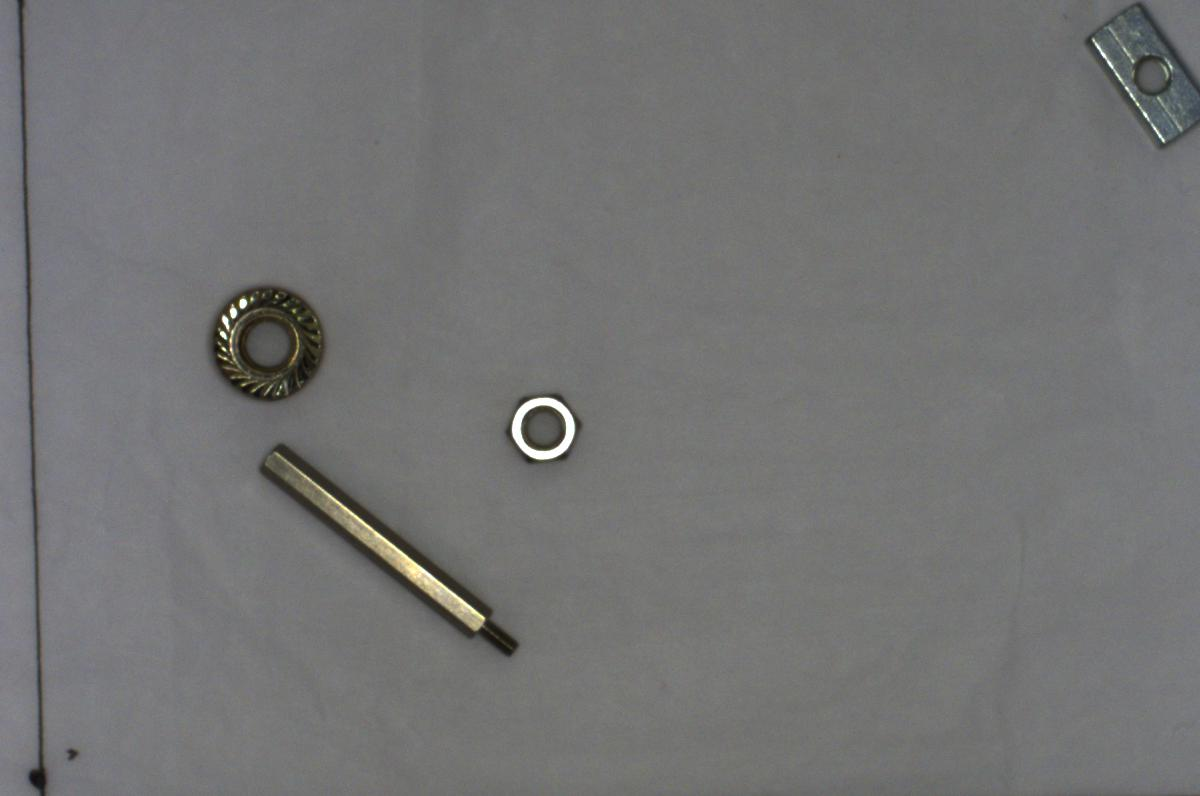Flange nut: (199, 278, 330, 406)
Hexagon nut: (501, 382, 590, 468)
Hexagonal steel column: (254, 435, 531, 668)
Rectangular nut: (1079, 3, 1199, 152)
